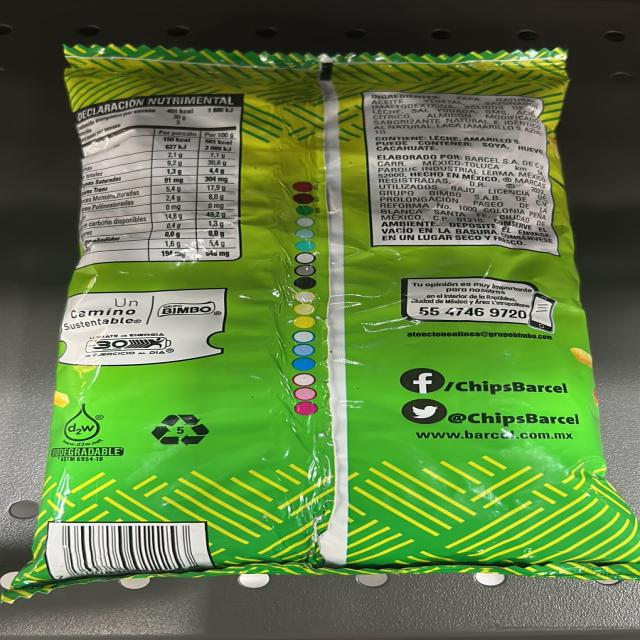productoAtras: (72, 44, 567, 574)
